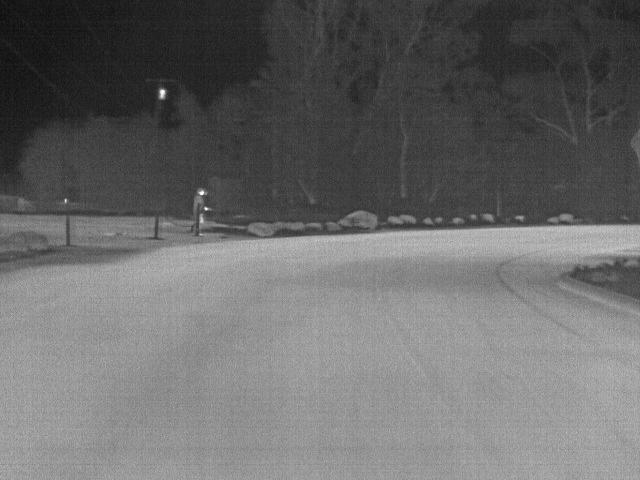person: (192, 185, 207, 235)
